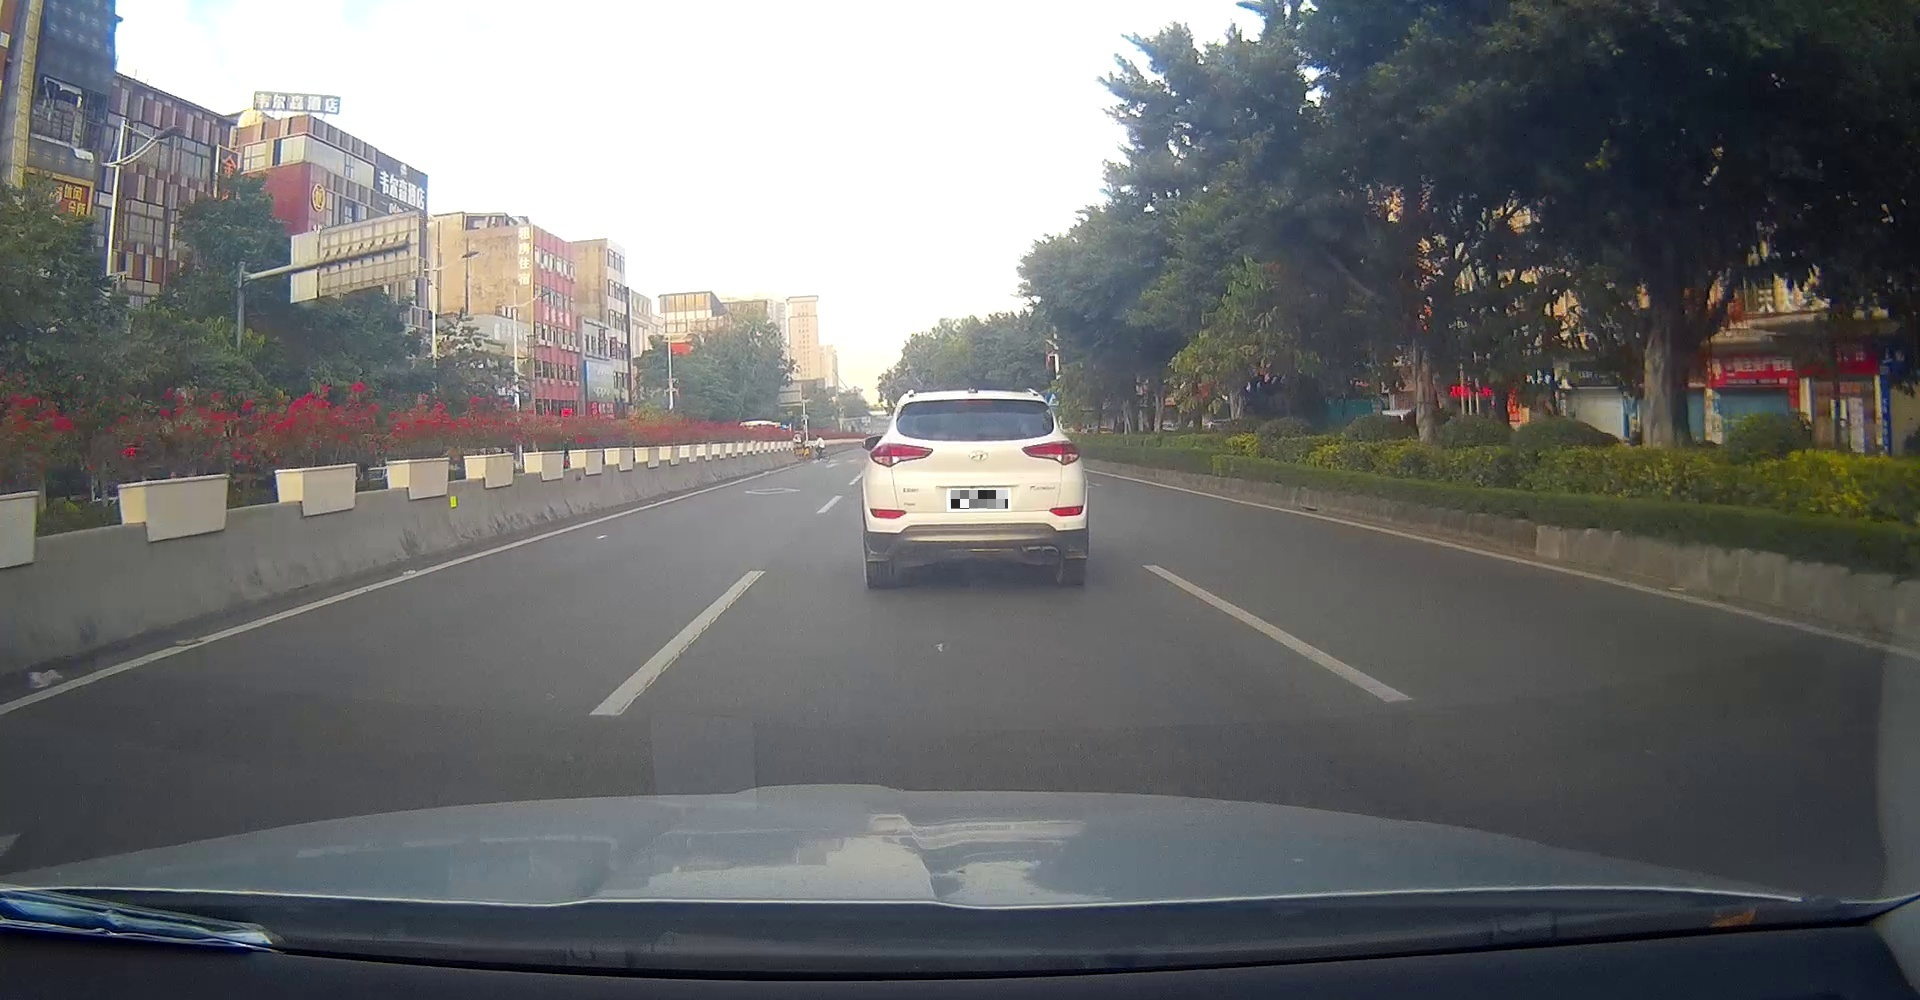L_light: (869, 443, 935, 468)
R_light: (1022, 440, 1082, 466)
T_light: (955, 400, 993, 406)
day-no: (862, 390, 1087, 588)
plate_1: (951, 490, 1008, 509)
